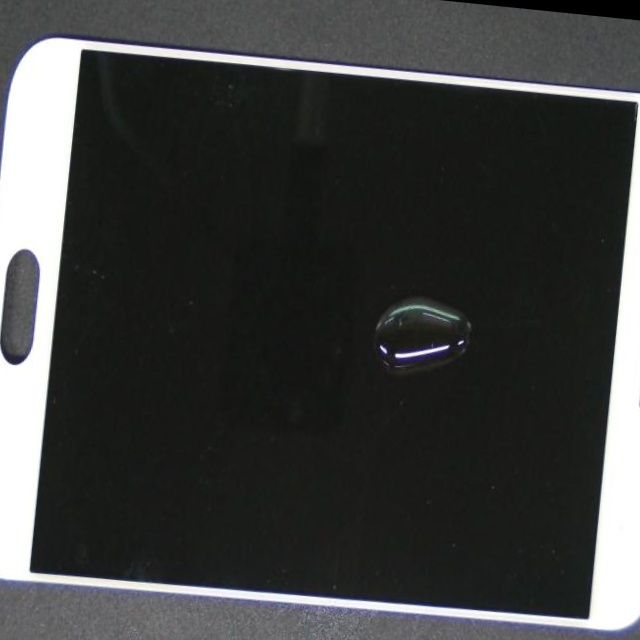oil: (224, 147, 640, 496)
